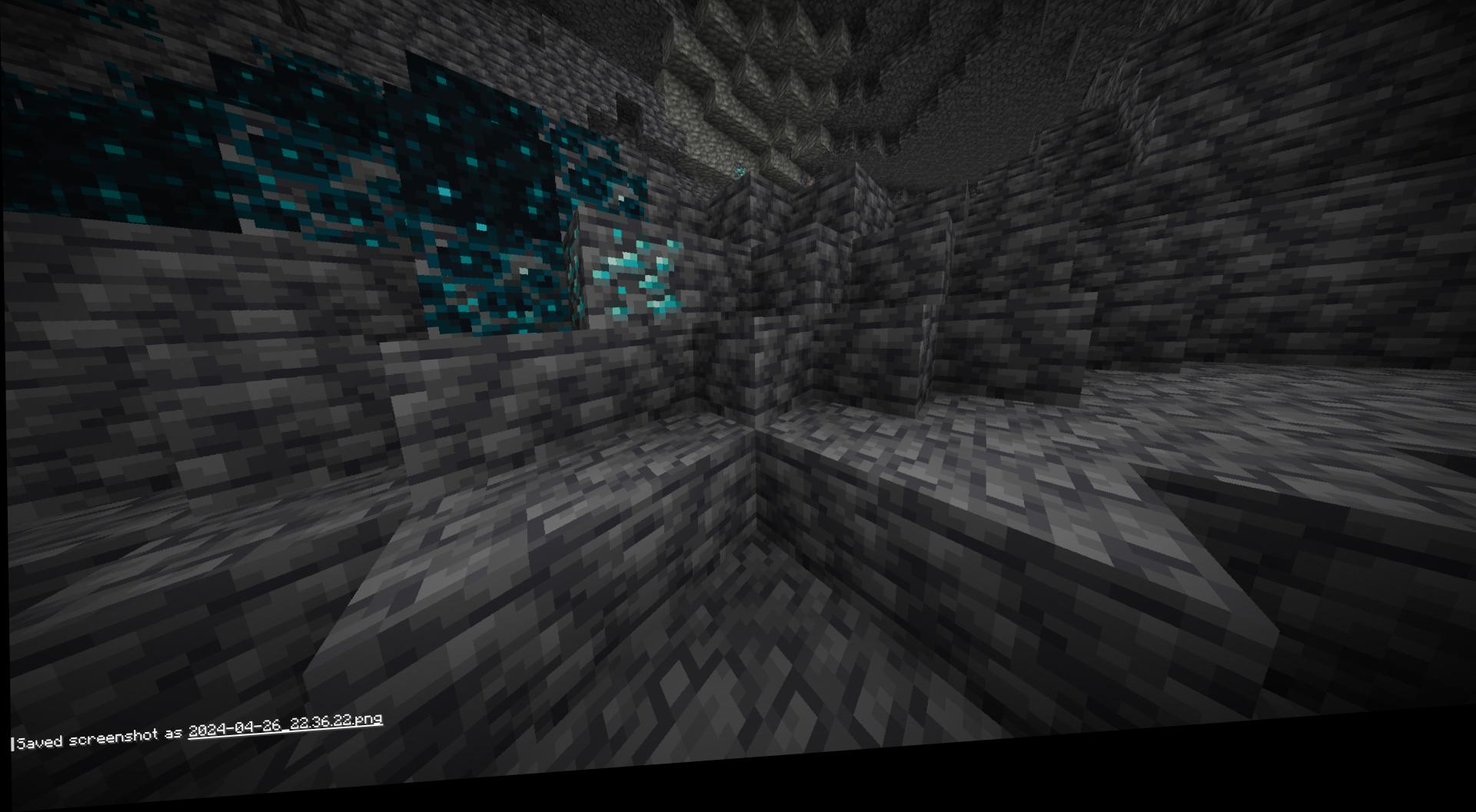diamond ore: (580, 216, 684, 343), (731, 168, 754, 197)
